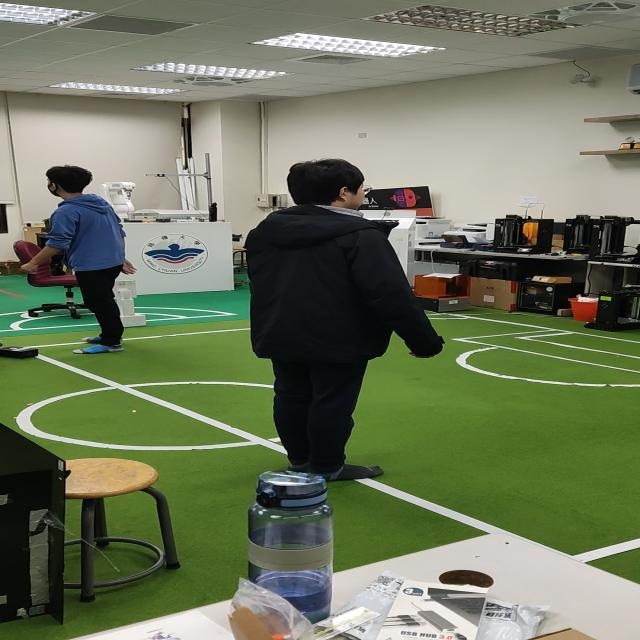person: (231, 149, 435, 470), (18, 162, 142, 356)
